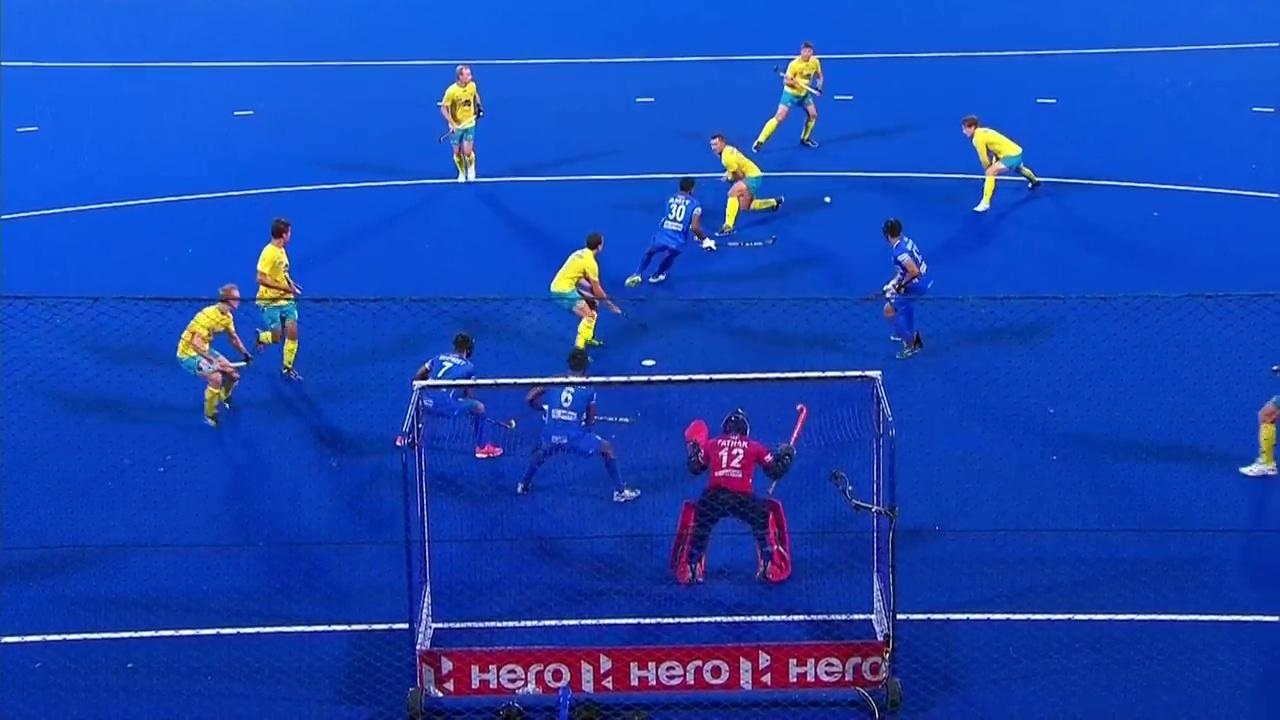ball: (820, 192, 833, 204)
